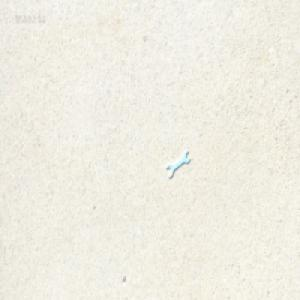Wrench: (165, 147, 189, 176)
